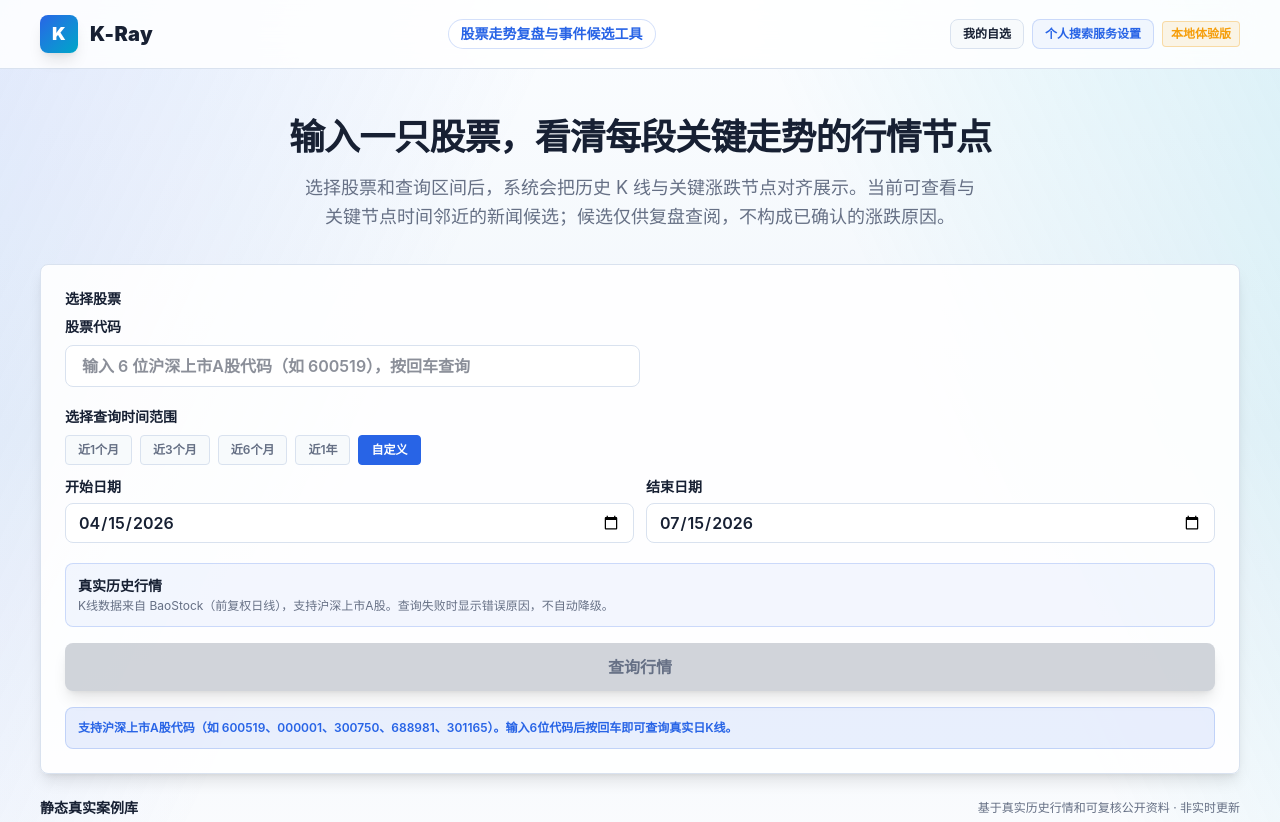
第九阶段前端测试 - 关键股价节点 › 真实模式不渲染事件列表区域（legacy-event-list）
Type "600519" into the field with placeholder "输入 6 位沪深上市A股代码（如 600519），按回车查询" at (352, 366), box [65,344,640,386]
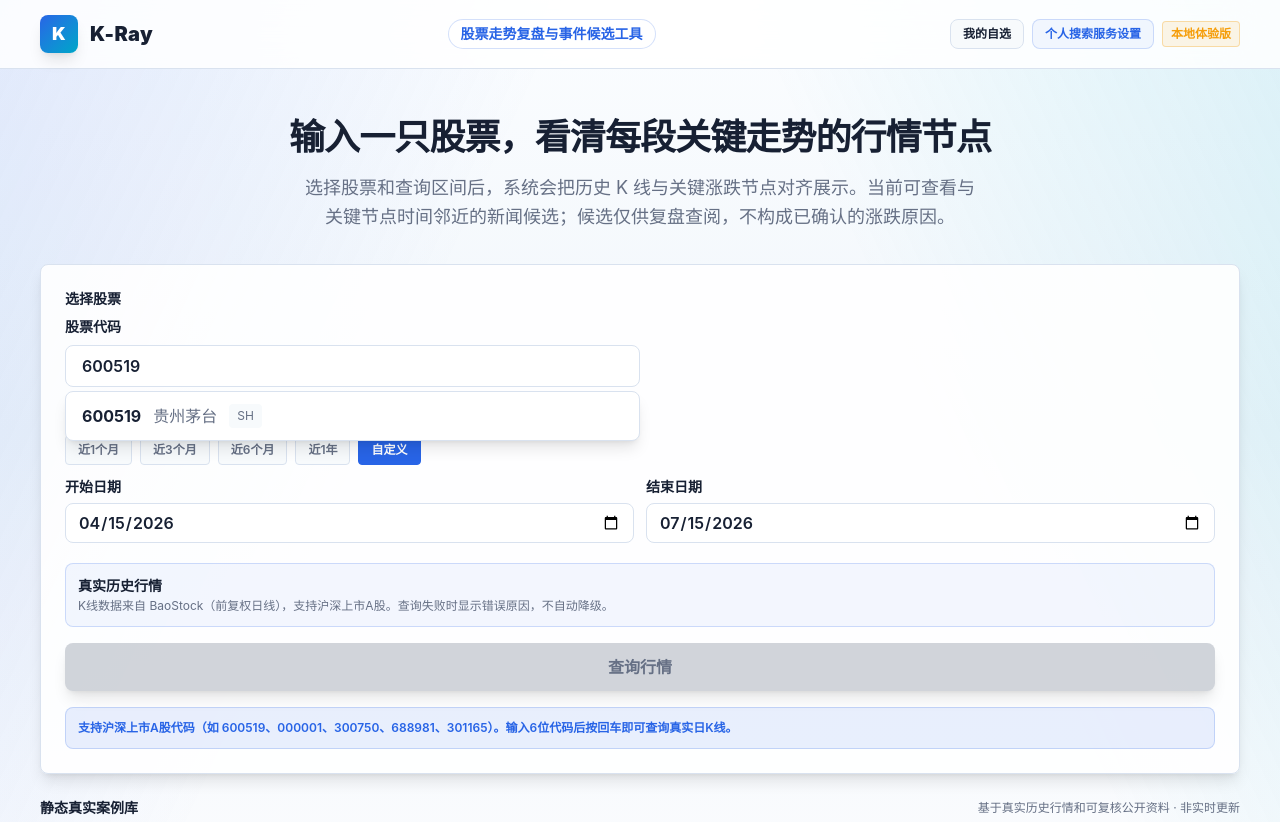
Expected: the button "600519 贵州茅台 SH" is shown
Click the button "600519 贵州茅台 SH" at (112, 416), box [66,392,639,440]
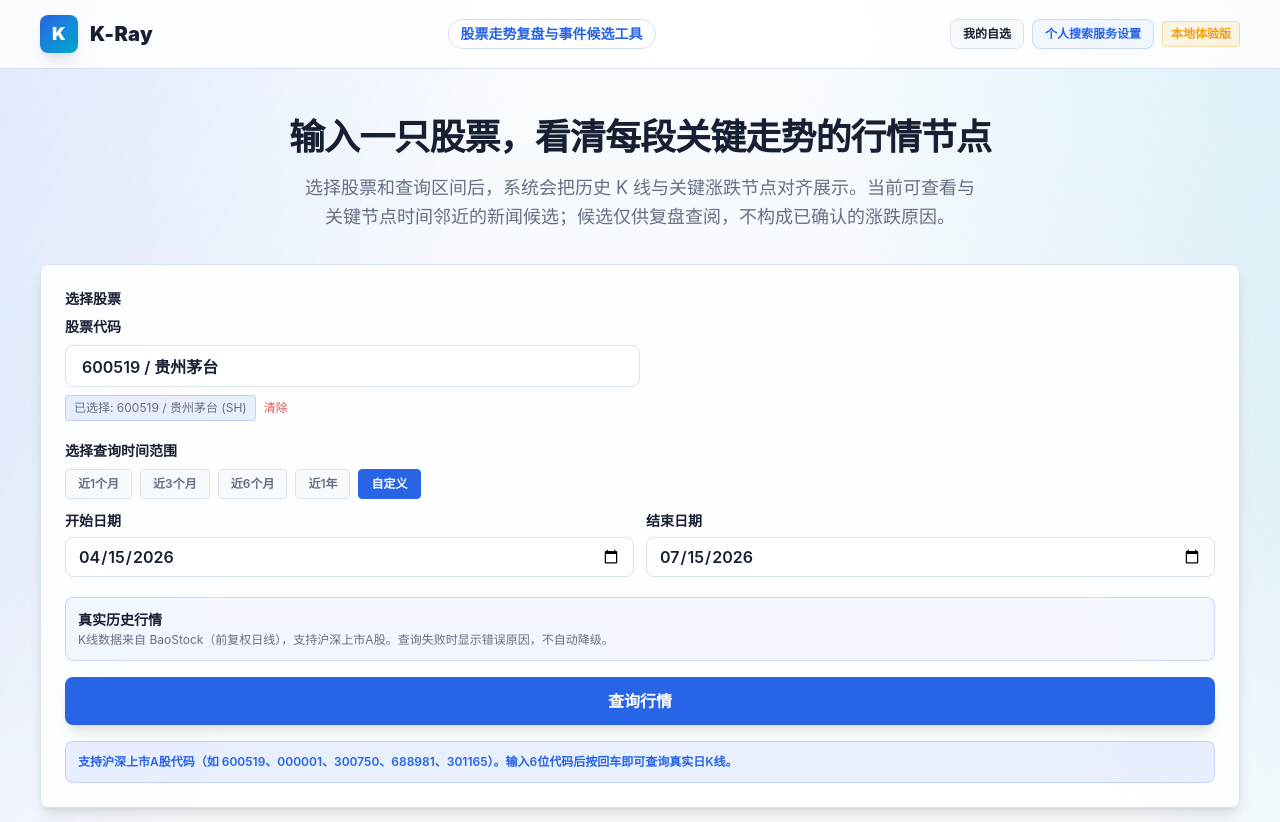
Click the button "查询行情" at (640, 700), box [65,676,1215,724]
(page scrolled)
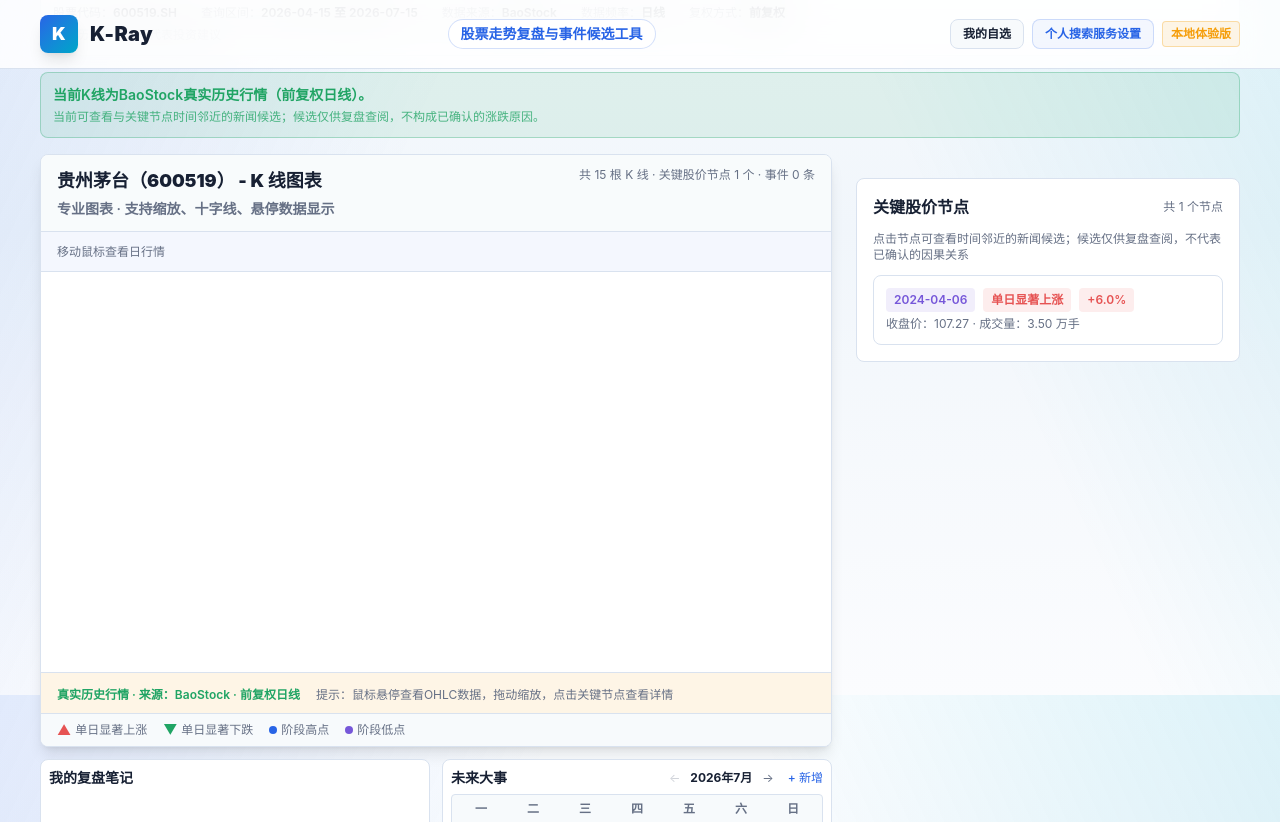
Expected: the element with test id "chart-wrapper" is shown, [40,154,832,747]
